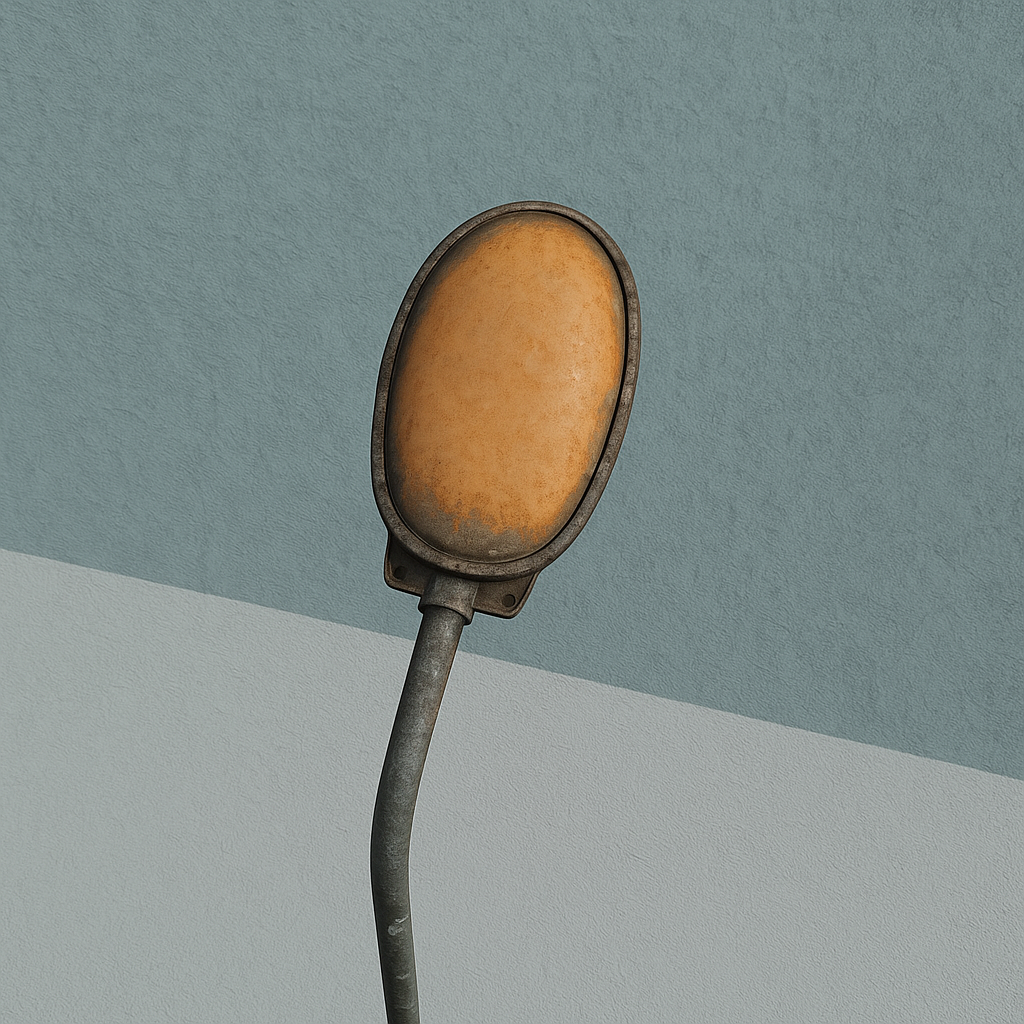Top_Street_Light: (341, 195, 654, 620)
